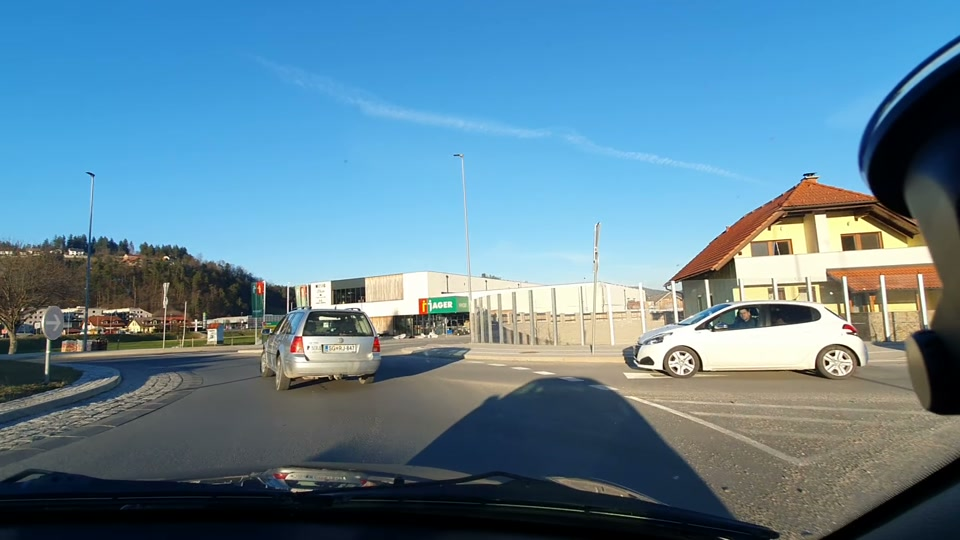vehicle_ign: (245, 303, 387, 393)
vehicle_r: (620, 290, 875, 384)
